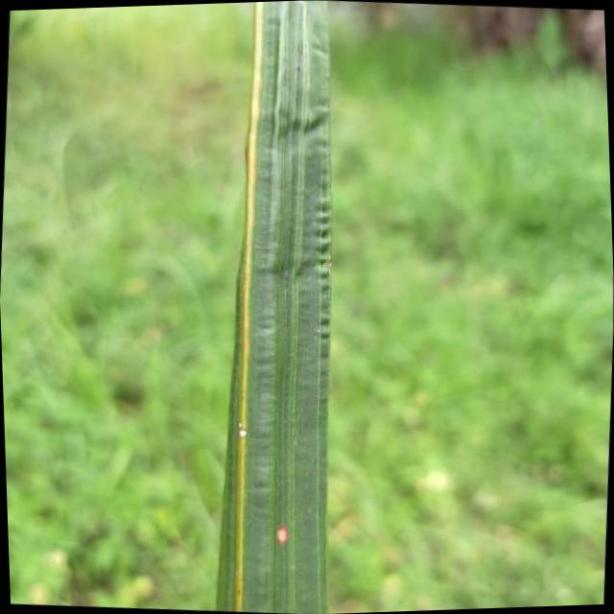Boron: (220, 1, 331, 614)
